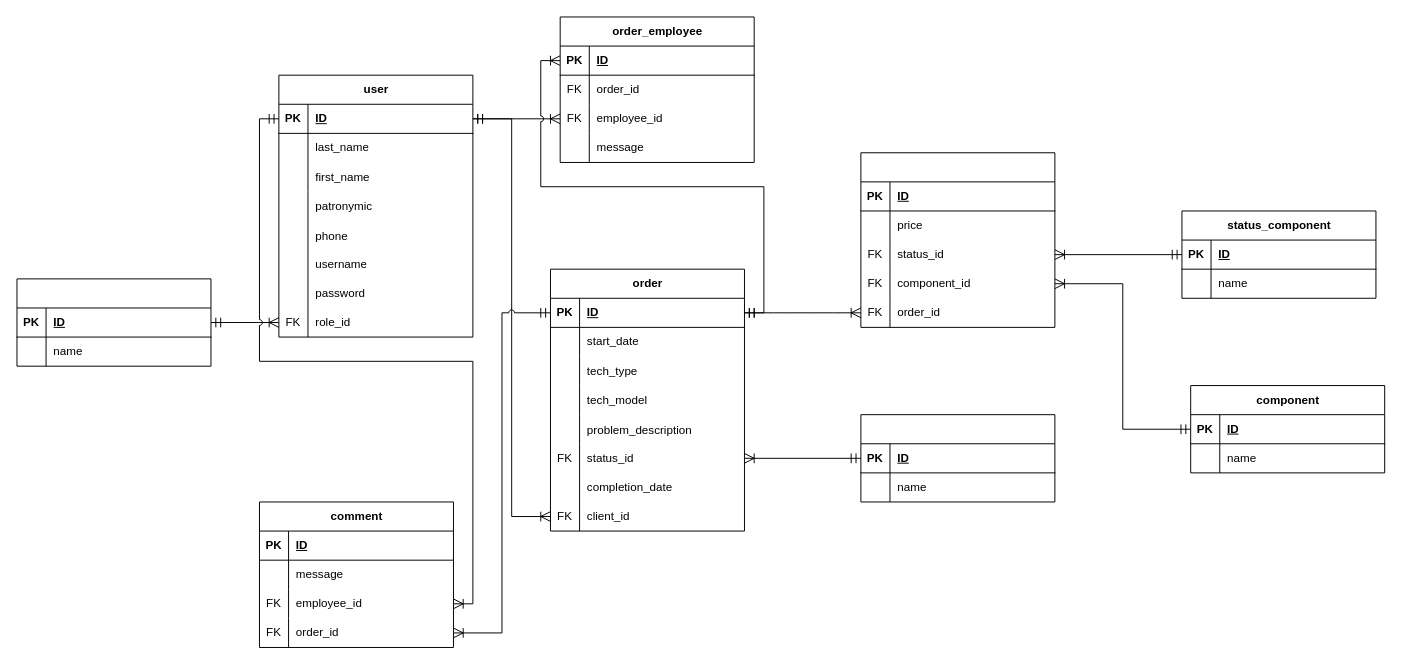
Image size: 1402x664. Some labels were removed from this diagram. Each missing label, with the box of its shape:
order_component: (860, 152, 1055, 327)
role: (16, 278, 211, 366)
status_order: (860, 414, 1055, 502)
